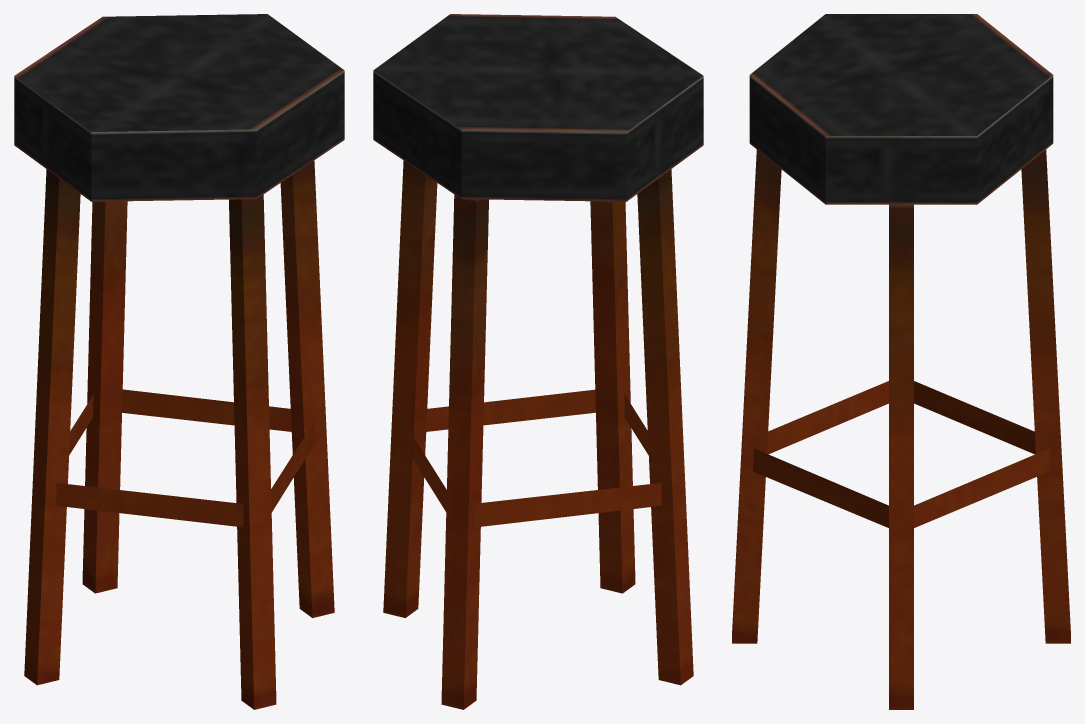
The model's file is BarStool01.obj.
3 views of the same model, side by side, from view 1: azimuth 30°, elevation 25°; view 2: azimuth 150°, elevation 25°; view 3: azimuth 270°, elevation 25° (orthographic).
Visible parts, largest first — view 1: BarStool01; view 2: BarStool01; view 3: BarStool01.
Boxes of the visible parts, box(x1,y1,x2,y2) form: BarStool01: box(14, 14, 344, 709); BarStool01: box(373, 14, 703, 709); BarStool01: box(732, 14, 1070, 709).
Bounding box in the file's own units: 0.6698 × 1.23 × 0.6698.
